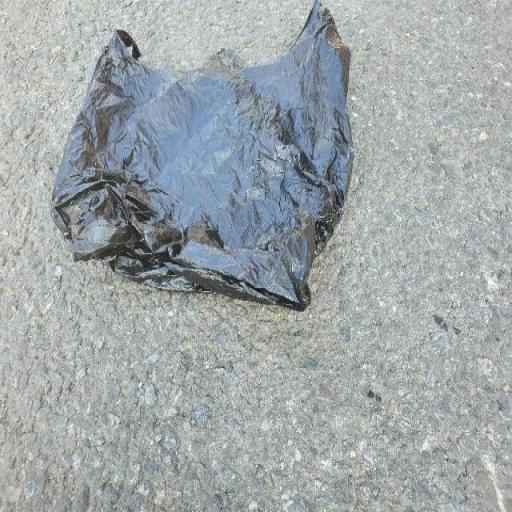plastic-bag: (47, 0, 355, 314)
